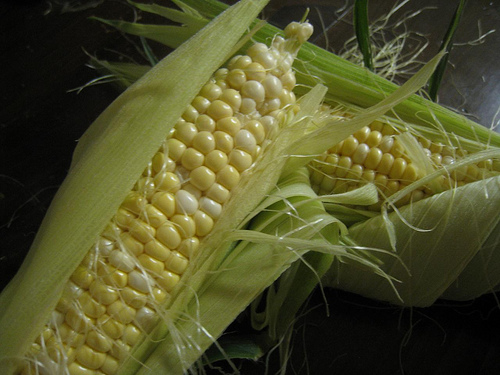corn: (2, 22, 313, 374)
